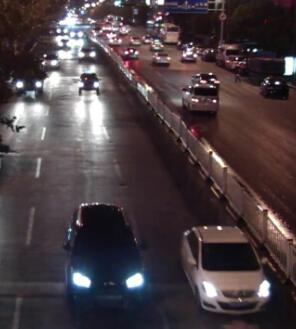bus: (157, 18, 181, 47)
car: (60, 201, 150, 314), (177, 221, 273, 318), (179, 83, 221, 118), (12, 60, 46, 96), (259, 75, 291, 102), (74, 70, 103, 98), (188, 69, 222, 92), (74, 42, 100, 62), (222, 54, 248, 72), (38, 51, 61, 71), (179, 45, 199, 64), (151, 50, 172, 67), (218, 44, 235, 65), (147, 38, 170, 52), (122, 43, 141, 59), (57, 34, 72, 50), (67, 28, 85, 40), (53, 24, 71, 36)
